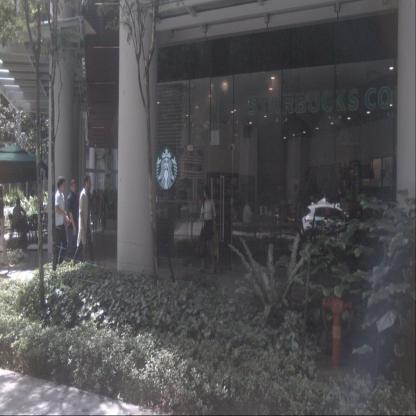human-pedestrian-adult: (71, 174, 97, 272), (58, 179, 86, 267), (196, 185, 217, 274), (53, 176, 71, 279), (0, 183, 15, 272), (12, 198, 29, 244), (242, 197, 257, 243), (91, 190, 98, 236), (100, 194, 107, 236)
vehicle-car: (301, 197, 356, 243)
